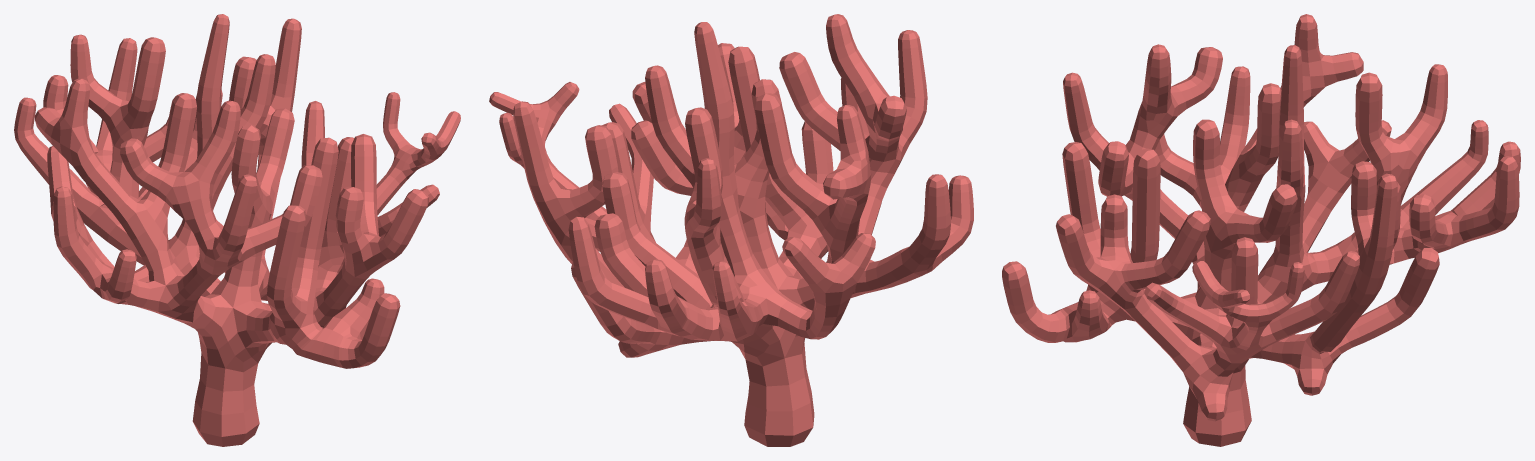
File: coral-2.glb
The picture shows the model from 3 angles, left to right: view 1: azimuth 30°, elevation 25°; view 2: azimuth 150°, elevation 25°; view 3: azimuth 270°, elevation 25°; orthographic projection. The views are drawn at different scales.
Visible parts, largest first — view 1: coral-2; view 2: coral-2; view 3: coral-2.
Part boxes in pixels (x1,y1,x2,y2): coral-2: (14,14,460,446); coral-2: (489,14,973,446); coral-2: (1002,14,1520,446).
Size of the model in its own units: 3.08 by 2.85 by 3.24.
